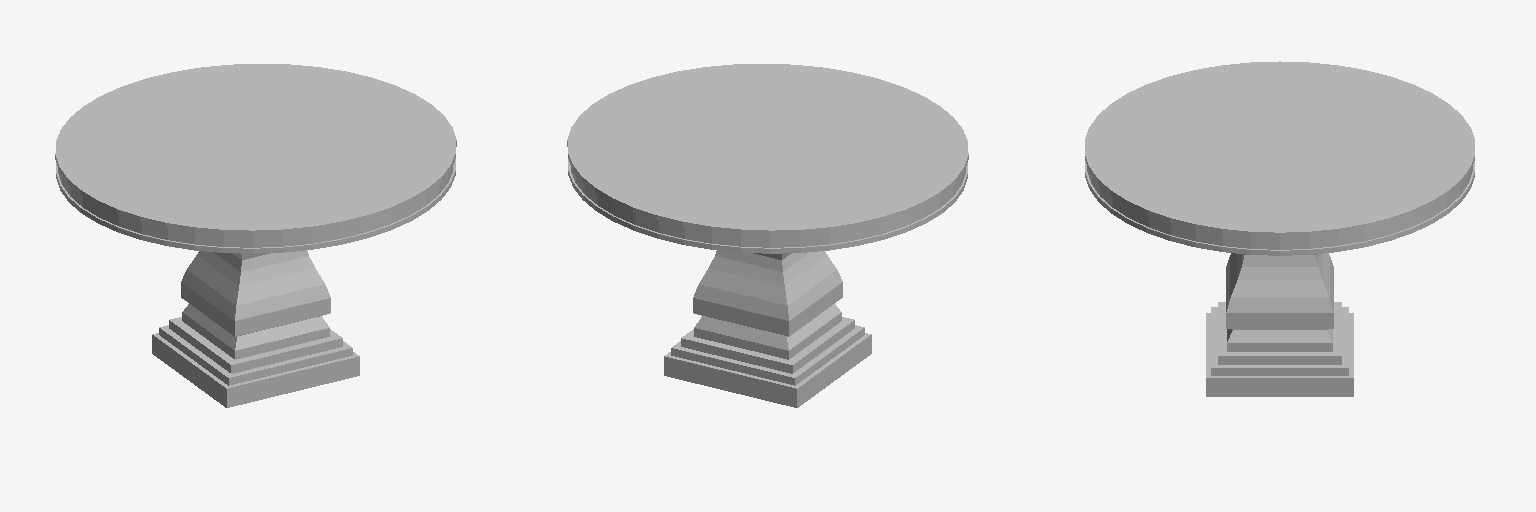
Rendered from table.obj.
3 renders of one model, left to right at view 1: azimuth 30°, elevation 25°; view 2: azimuth 150°, elevation 25°; view 3: azimuth 270°, elevation 25°, orthographic.
Visible parts, largest first — view 1: low_Mesh; view 2: low_Mesh; view 3: low_Mesh.
Part boxes in pixels (bbox=[...]): low_Mesh: bbox=[55, 64, 456, 407]; low_Mesh: bbox=[567, 64, 968, 407]; low_Mesh: bbox=[1085, 61, 1474, 396].
Size of the model in its own units: 0.9512 by 0.5644 by 0.9177.